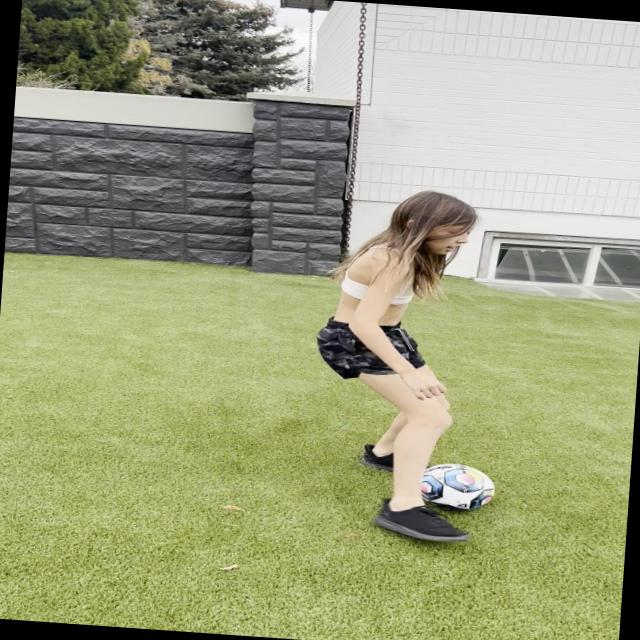Soccer Ball: (413, 460, 496, 514)
